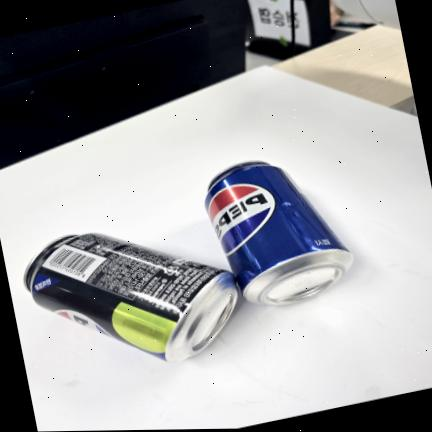can_pepsi: (205, 161, 353, 305)
can_pepsi_zero: (24, 233, 238, 362)
